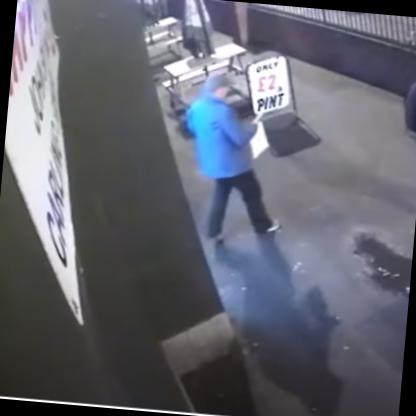Human Body: (170, 67, 299, 252), (386, 40, 415, 230)
